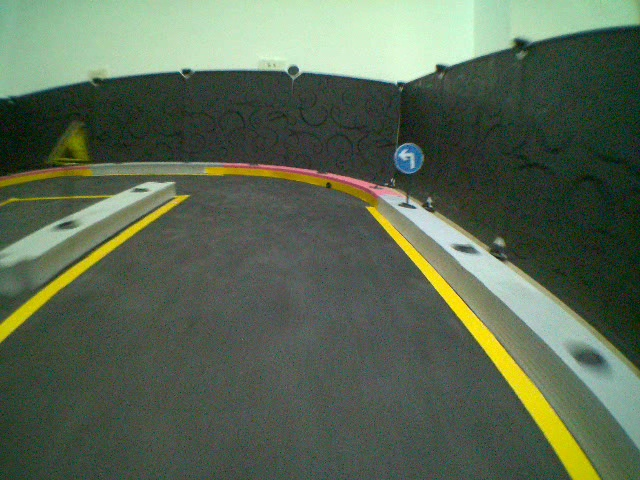fast: (46, 119, 91, 169)
turn: (392, 142, 427, 176)
